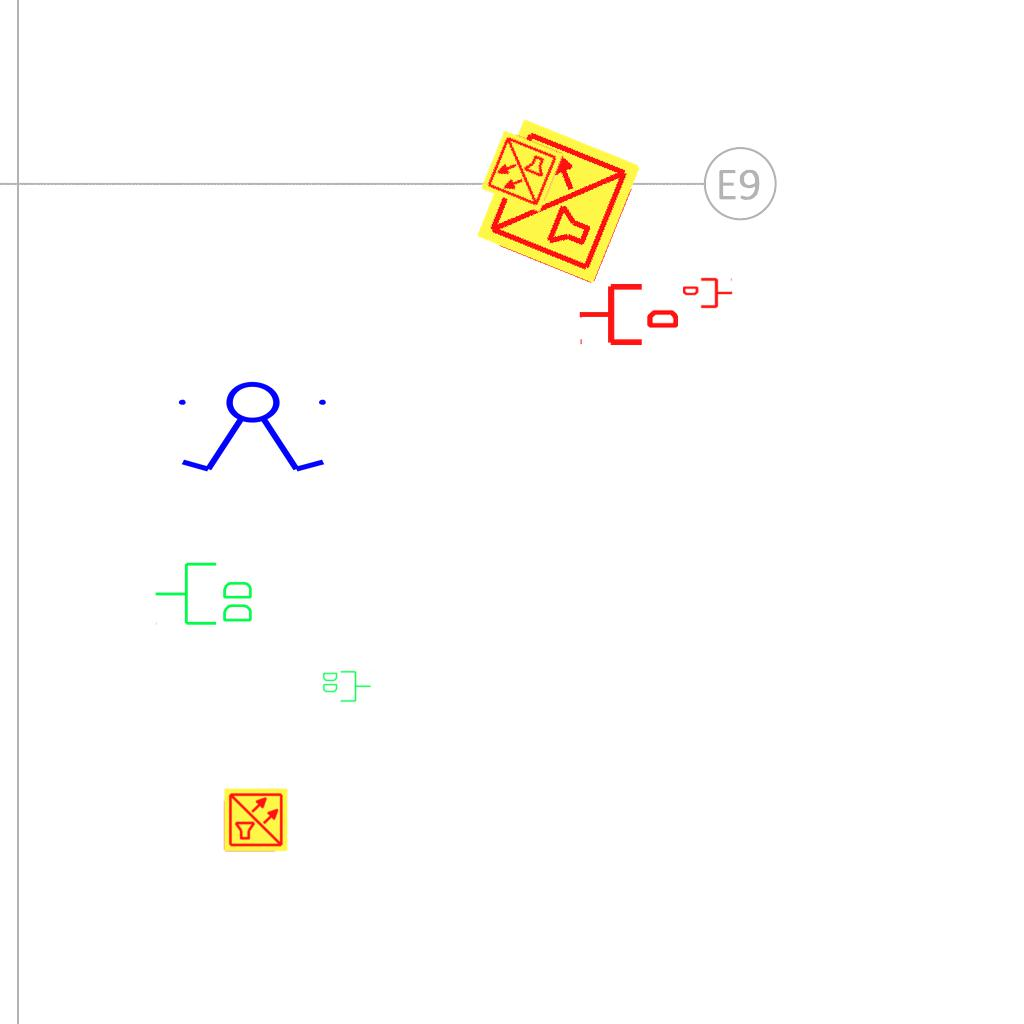Datenanschluss_einfach: (578, 280, 678, 349), (683, 276, 733, 310)
Datenanschluss_zweifach: (153, 560, 256, 629), (321, 669, 372, 703)
OKW_Multisensormelder_(Kombination_optischer_Rauch-Kahlenmonoxid_Waerme-Melder): (473, 115, 645, 287), (479, 128, 565, 214), (223, 787, 289, 853)
Serienschalter: (170, 380, 338, 476)
